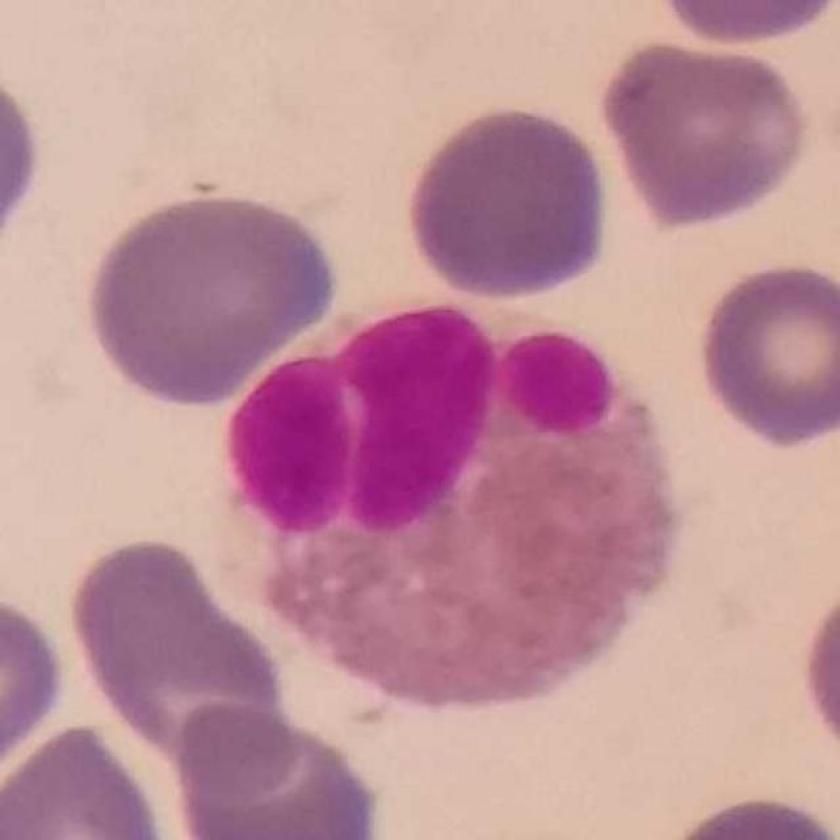eosinophil: (225, 286, 689, 714)
